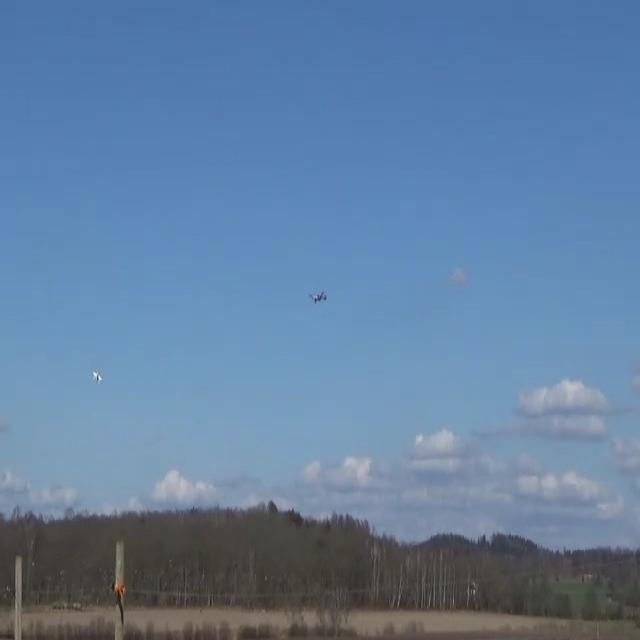drone: (307, 290, 326, 302), (91, 370, 102, 382)
